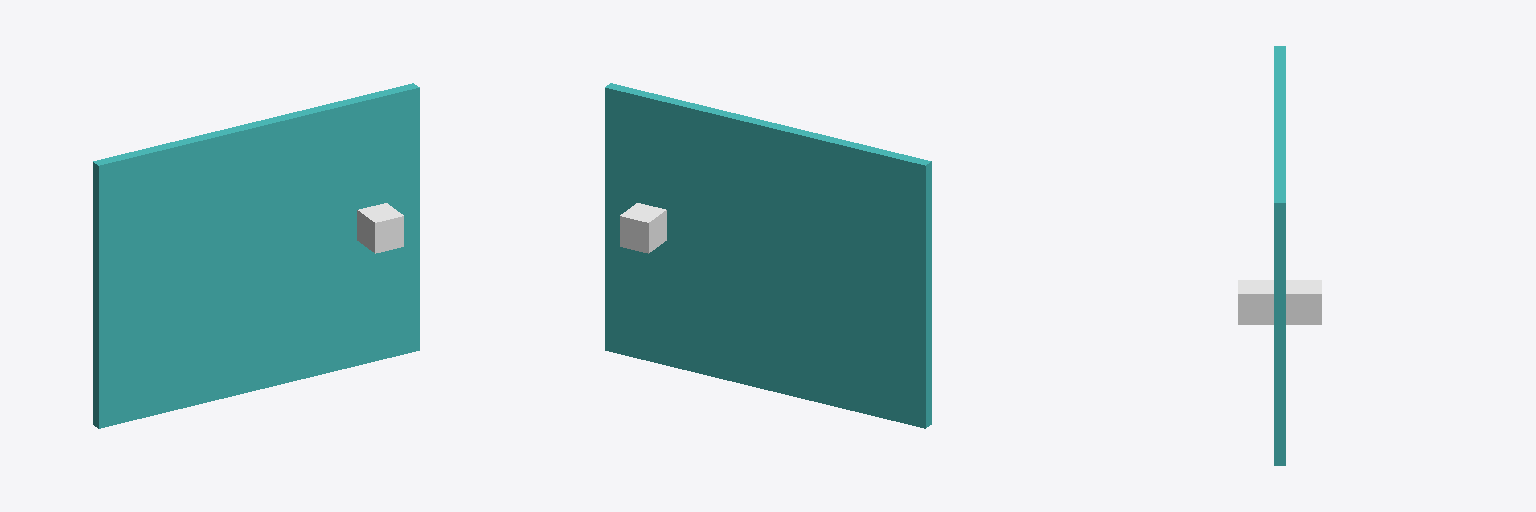
The model's file is Entrance Door.obj.
The picture shows the model from 3 angles: view 1: azimuth 30°, elevation 25°; view 2: azimuth 150°, elevation 25°; view 3: azimuth 270°, elevation 25°; orthographic projection.
Parts seen in each view (by area): view 1: Entrance Door; view 2: Entrance Door; view 3: Entrance Door.
Boxes of the visible parts, x1,y1,x2,y2 form: Entrance Door: [93, 83, 419, 428]; Entrance Door: [605, 83, 931, 428]; Entrance Door: [1238, 46, 1321, 465].
Size of the model in its own units: 1.79 by 1.4 by 0.4062.